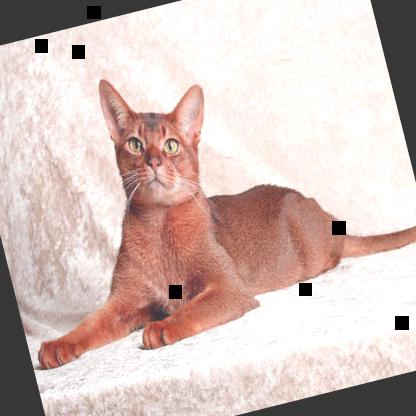cat: (0, 12, 415, 379)
